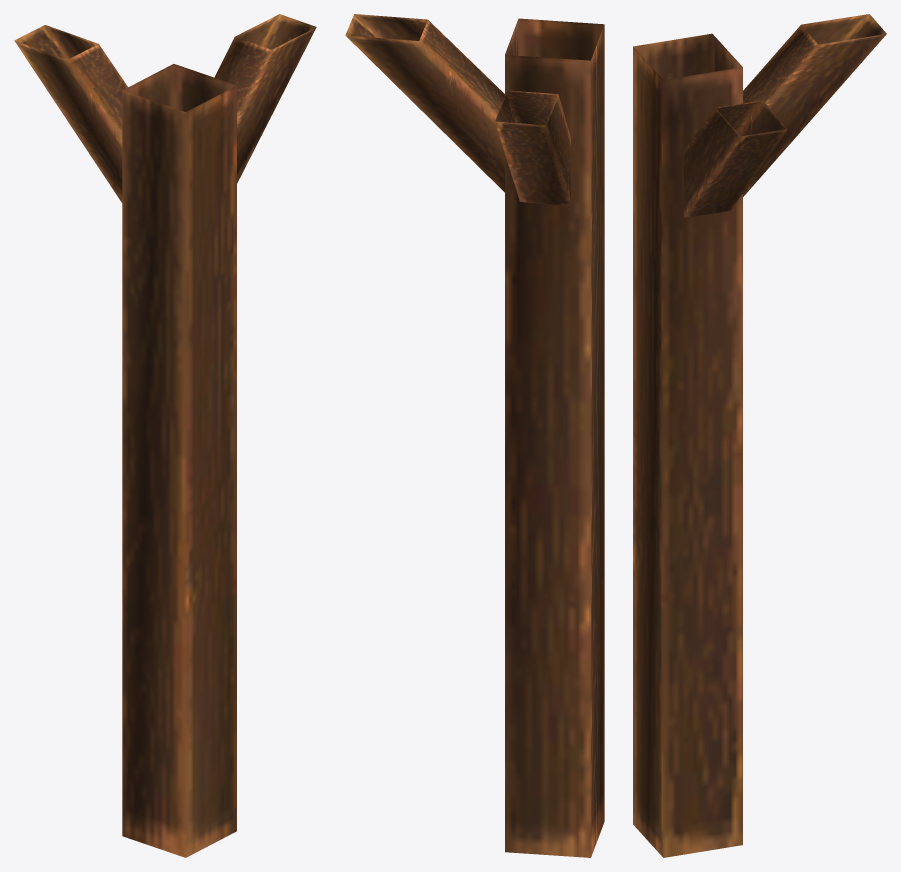
Rendered from SWORDLIGHT20_JAILPLATSUPPORT68.fbx.
3 views of the same model, side by side, from view 1: azimuth 30°, elevation 25°; view 2: azimuth 150°, elevation 25°; view 3: azimuth 270°, elevation 25° (orthographic). The views are drawn at different scales.
Visible parts, largest first — view 1: SWORDLIGHT20_JAILPLATSUPPORT68; view 2: SWORDLIGHT20_JAILPLATSUPPORT68; view 3: SWORDLIGHT20_JAILPLATSUPPORT68.
Part boxes in pixels (box(x1,y1,x2,y2)): SWORDLIGHT20_JAILPLATSUPPORT68: box(14, 14, 316, 857); SWORDLIGHT20_JAILPLATSUPPORT68: box(345, 14, 604, 857); SWORDLIGHT20_JAILPLATSUPPORT68: box(633, 14, 886, 857).
Size of the model in its own units: 13630 by 40518 by 11944.
Materials: 1 (1 with a texture image).
